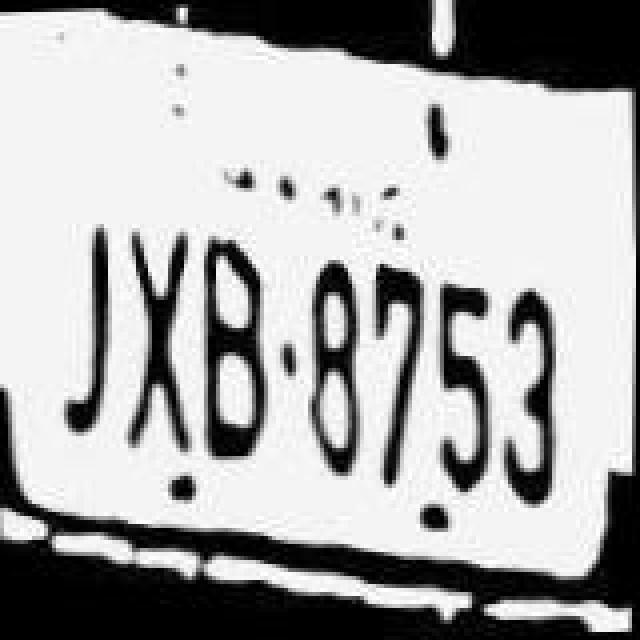3: (492, 270, 576, 514)
5: (422, 262, 502, 510)
7: (362, 264, 434, 524)
8: (286, 246, 366, 506)
B: (184, 216, 272, 480)
J: (38, 204, 122, 452)
X: (106, 202, 198, 466)
